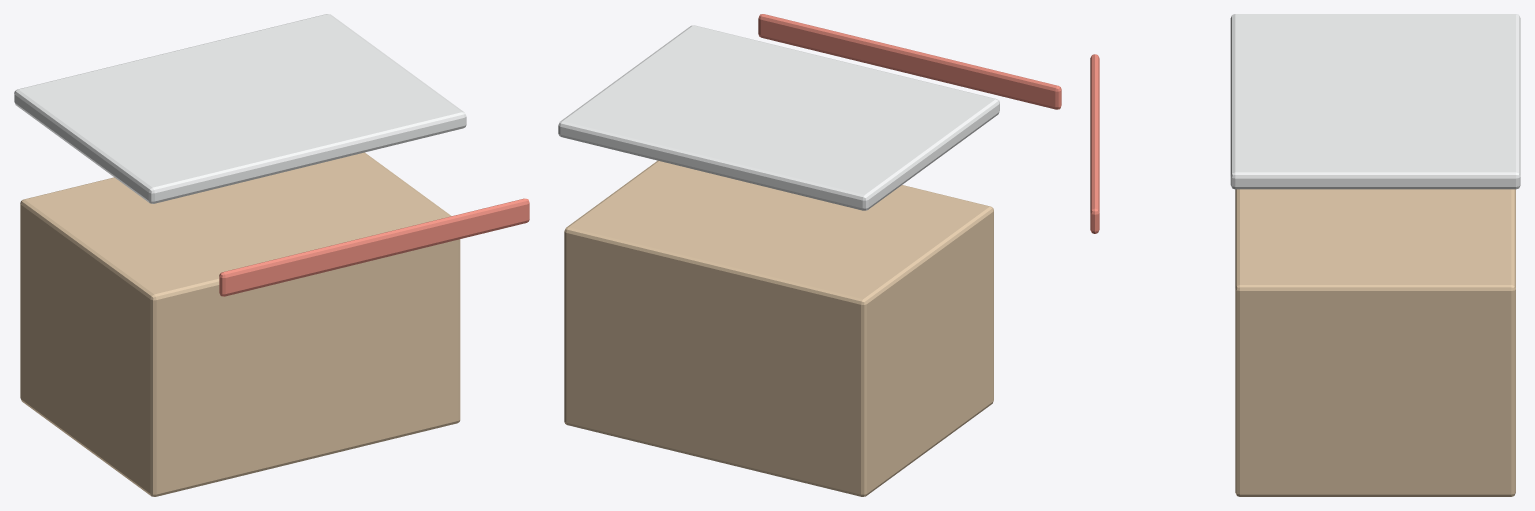
The model's file is SM_Counter.glb.
3 views of the same model, side by side, from view 1: azimuth 30°, elevation 25°; view 2: azimuth 150°, elevation 25°; view 3: azimuth 270°, elevation 25° (orthographic). The views are drawn at different scales.
Parts seen in each view (by area): view 1: SM_Counter; view 2: SM_Counter; view 3: SM_Counter.
Part boxes in pixels (bbox=[...]): SM_Counter: bbox=[14, 14, 529, 496]; SM_Counter: bbox=[558, 14, 1061, 496]; SM_Counter: bbox=[1090, 14, 1520, 496].
Bounding box in the file's own units: 0.82 × 0.77 × 0.92.
